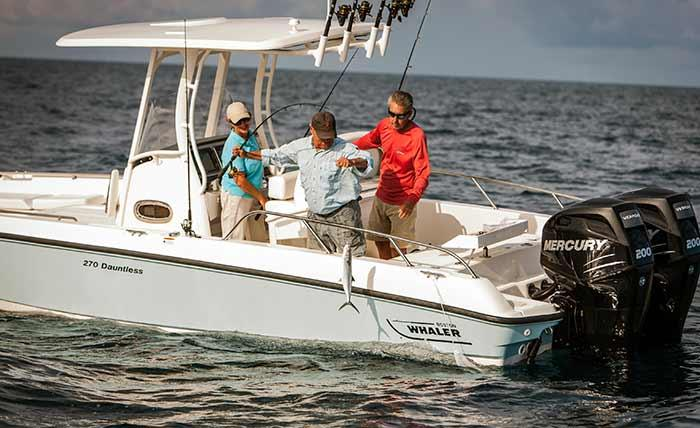fishing boat: (1, 0, 700, 372)
